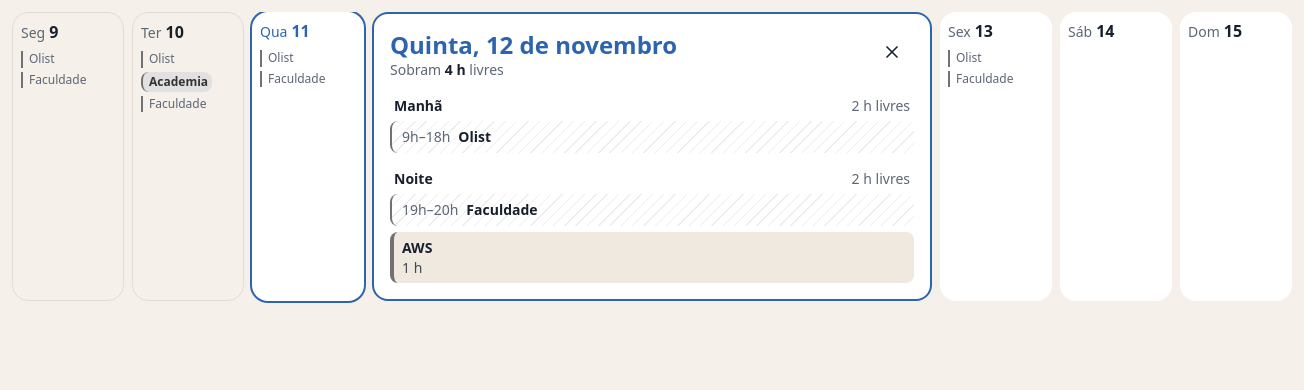
it: WeekBoard: dia aberto › tira um fixo do dia e deixa desfazer
The image size is (1304, 390).
Click the button "19h–20h Faculdade" at (652, 210), box [390,194,914,226]
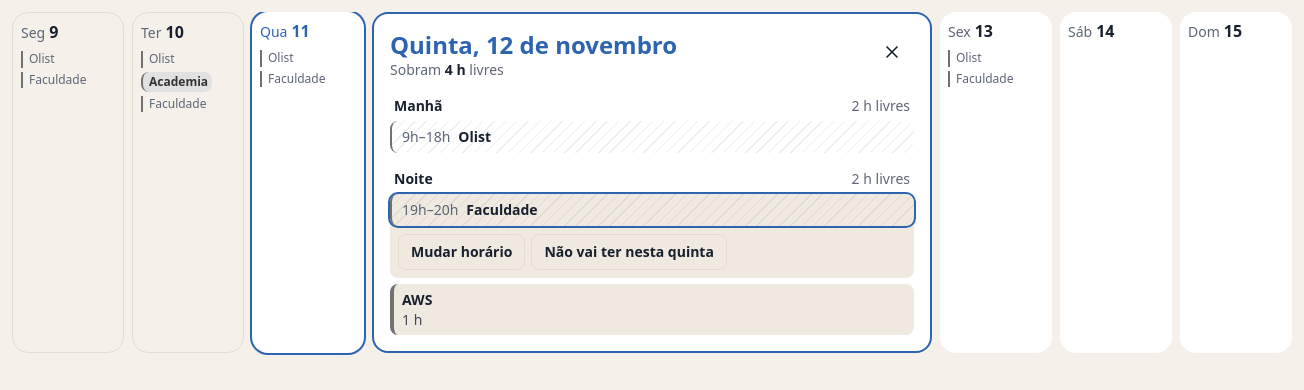
Click the button "Não vai ter nesta quinta" at (629, 252), box [531,234,727,270]
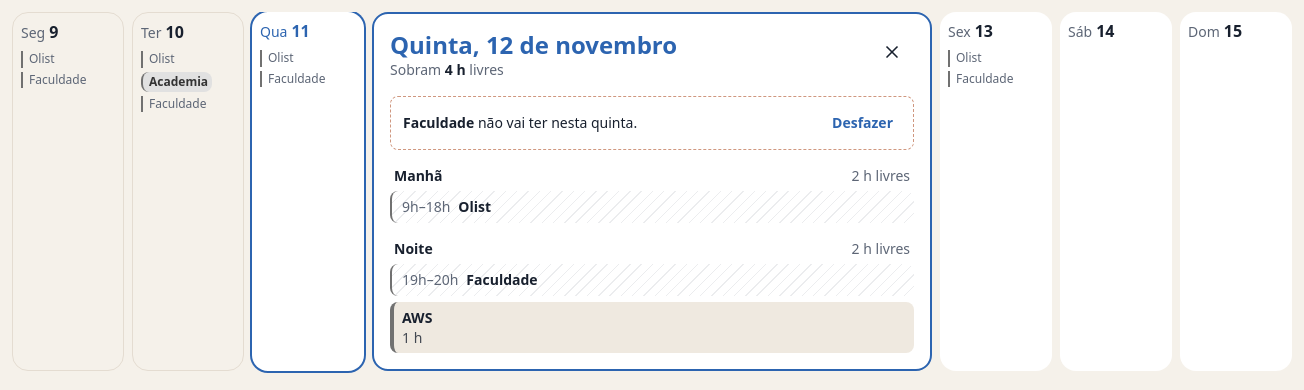
Result: the message shows "Faculdade não vai ter nesta quinta." at [390,96,914,150]
Click the button "Desfazer" at (863, 123), box [824,105,901,141]
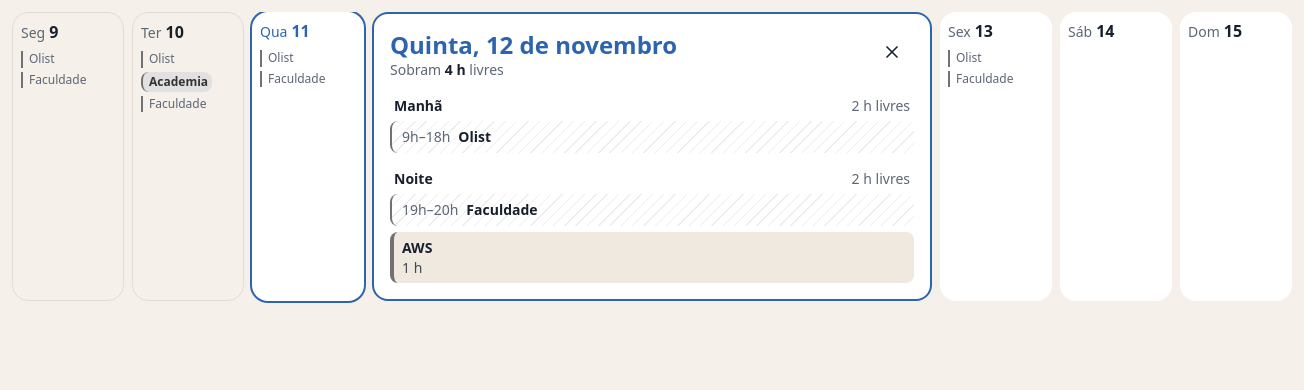
Result: the message "Faculdade não vai ter nesta quinta. Desfazer" is gone
